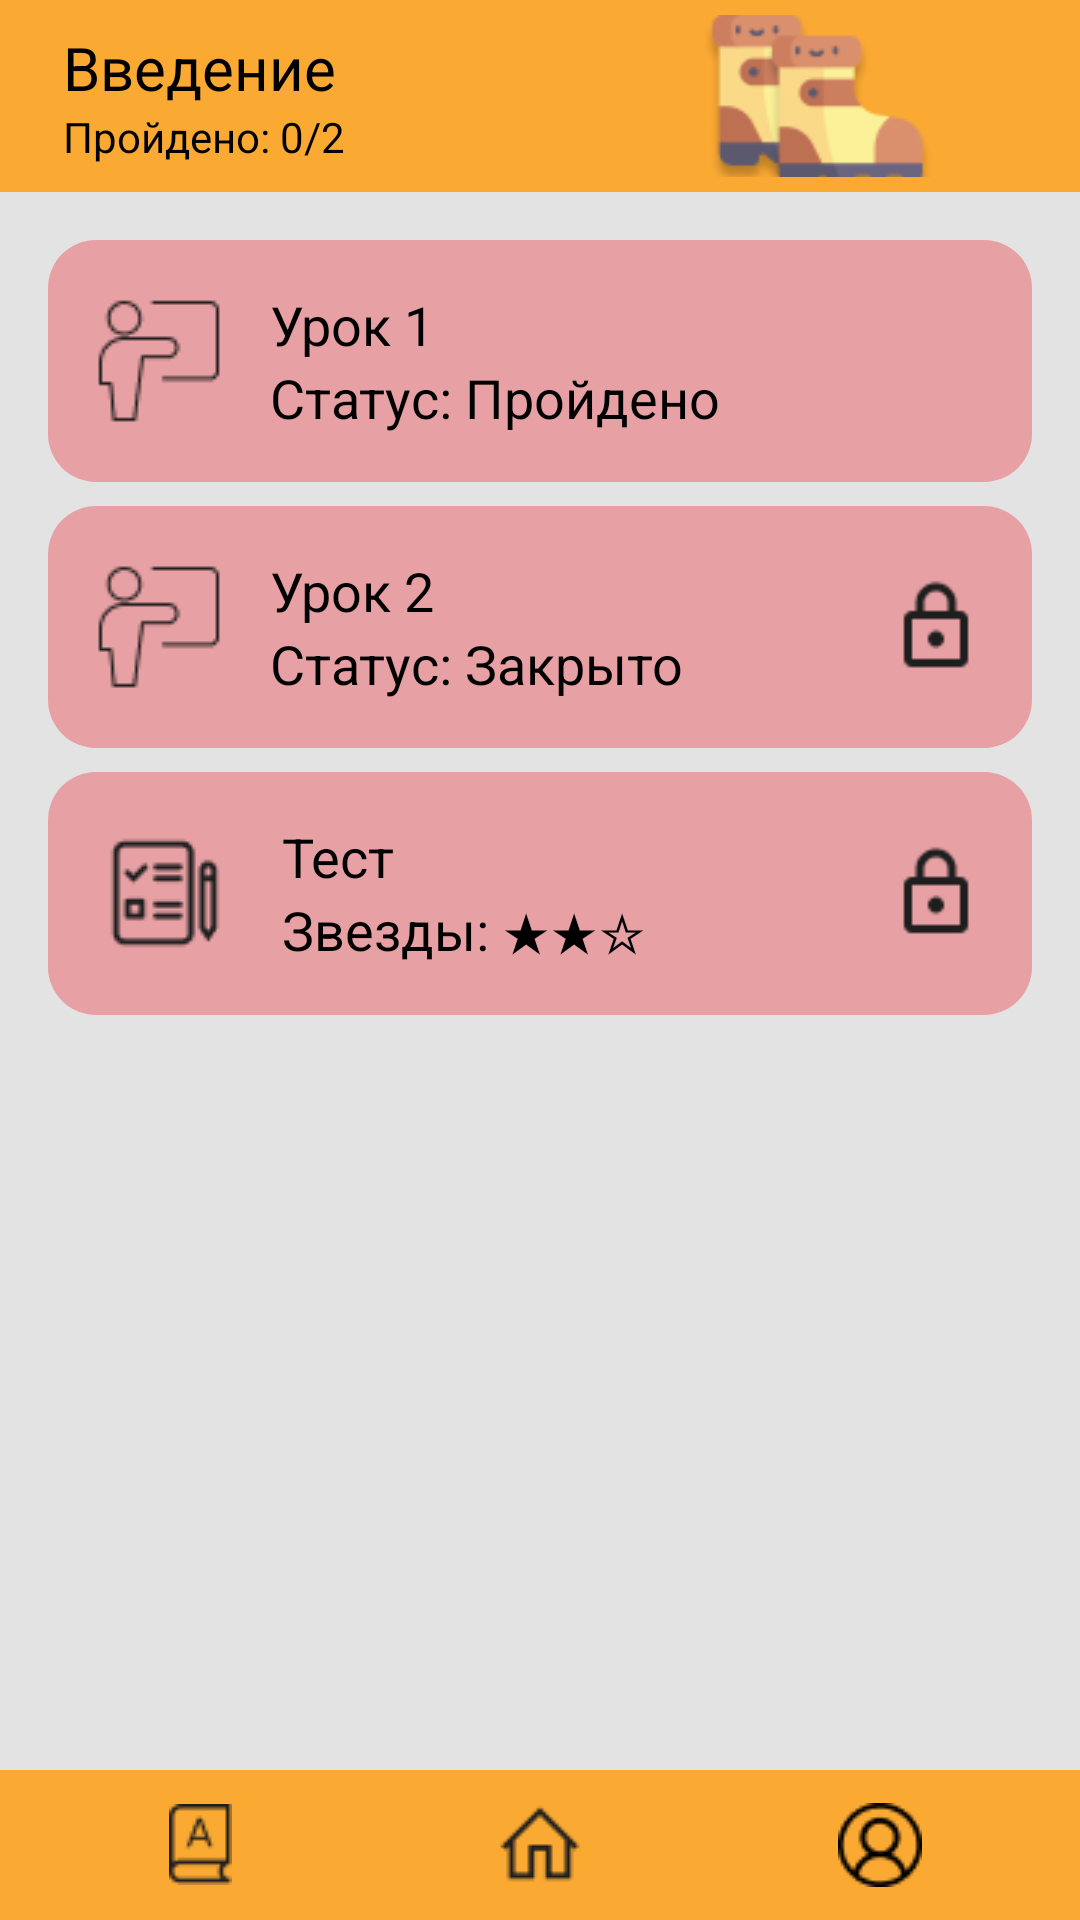

Screen size 1080 × 1920. Icon name, then its box in pixels as (x1, y1, x2, y2):
block: (903, 581, 969, 668), (903, 847, 969, 934)
lesson: (98, 300, 220, 422), (98, 566, 220, 688)
Аккаунт: (838, 1803, 922, 1887)
Главная: (500, 1807, 580, 1881)
Изображение для введения: (711, 15, 924, 177)
Словарь: (169, 1804, 232, 1885)
